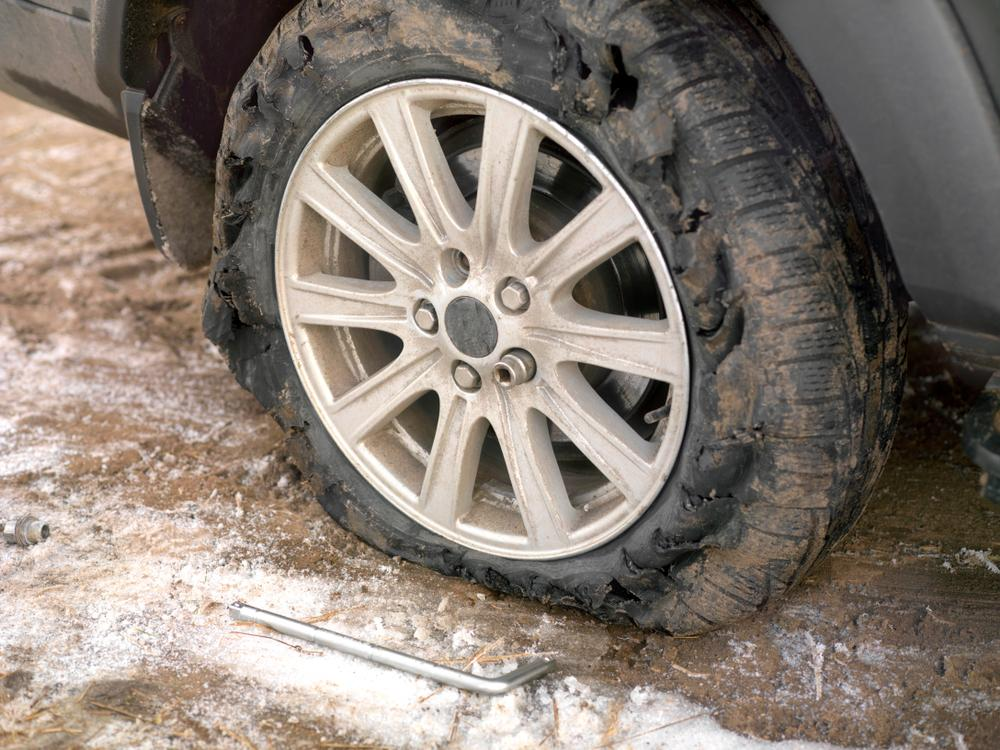tire flat: (202, 0, 903, 636)
